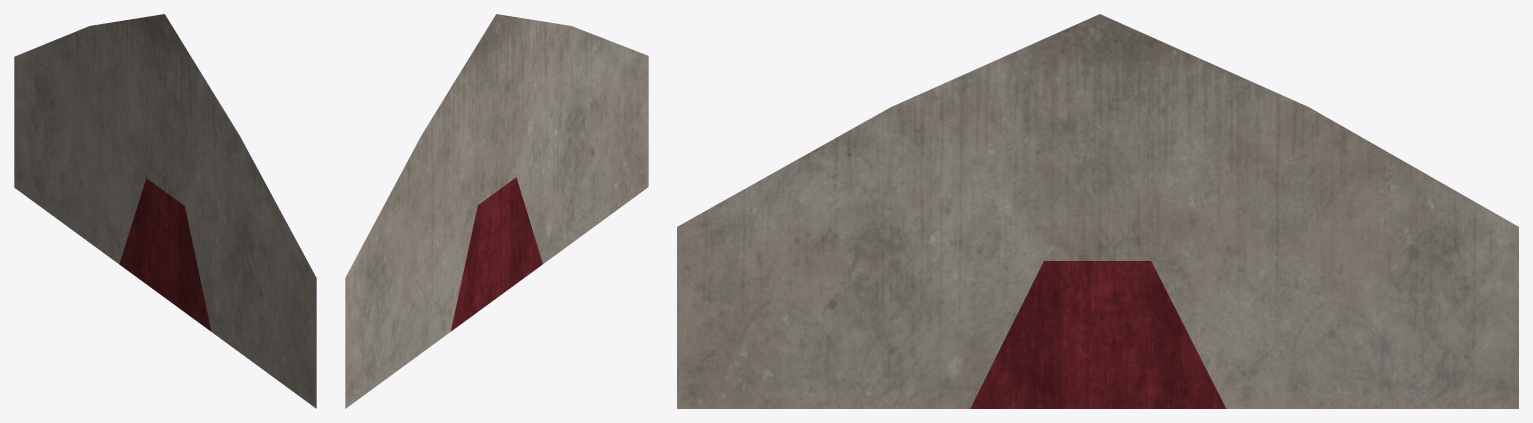
The model's file is SM_R_MiddleBeam_8.fbx.
3 views of the same model, side by side, from view 1: azimuth 30°, elevation 25°; view 2: azimuth 150°, elevation 25°; view 3: azimuth 270°, elevation 25° (orthographic). The views are drawn at different scales.
Visible parts, largest first — view 1: SM_R_MiddleBeam_8; view 2: SM_R_MiddleBeam_8; view 3: SM_R_MiddleBeam_8.
Boxes of the visible parts, <box> form: SM_R_MiddleBeam_8: <box>14,14,316,408</box>; SM_R_MiddleBeam_8: <box>345,14,648,408</box>; SM_R_MiddleBeam_8: <box>677,14,1518,408</box>.
Size of the model in its own units: 0.000308 by 280 by 145.
Materials: 2 (2 with a texture image).
